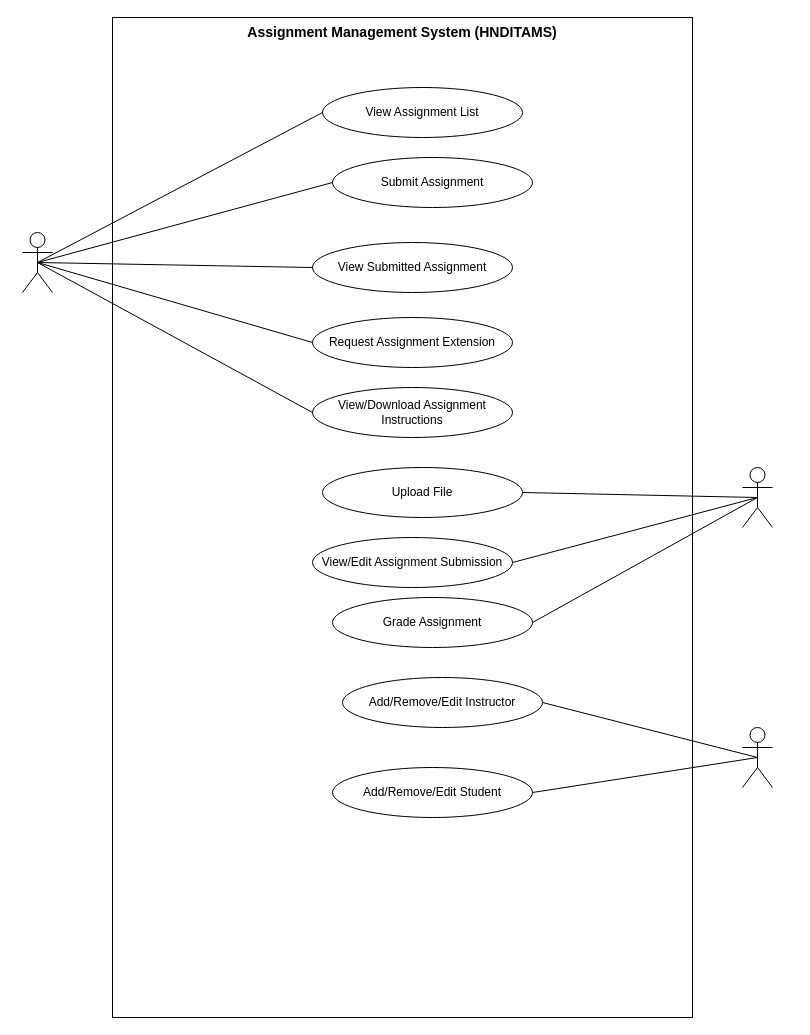
Some shapes in this 810 by 1035 pixel diagram are drawn without their labels. The shapes that lost their labels are listed below. From the top down, each one's centre as x and y in pixels, then its label:
At pixel 37 262: "Student".
At pixel 757 497: "Administrator".
At pixel 757 757: "Instructor".
